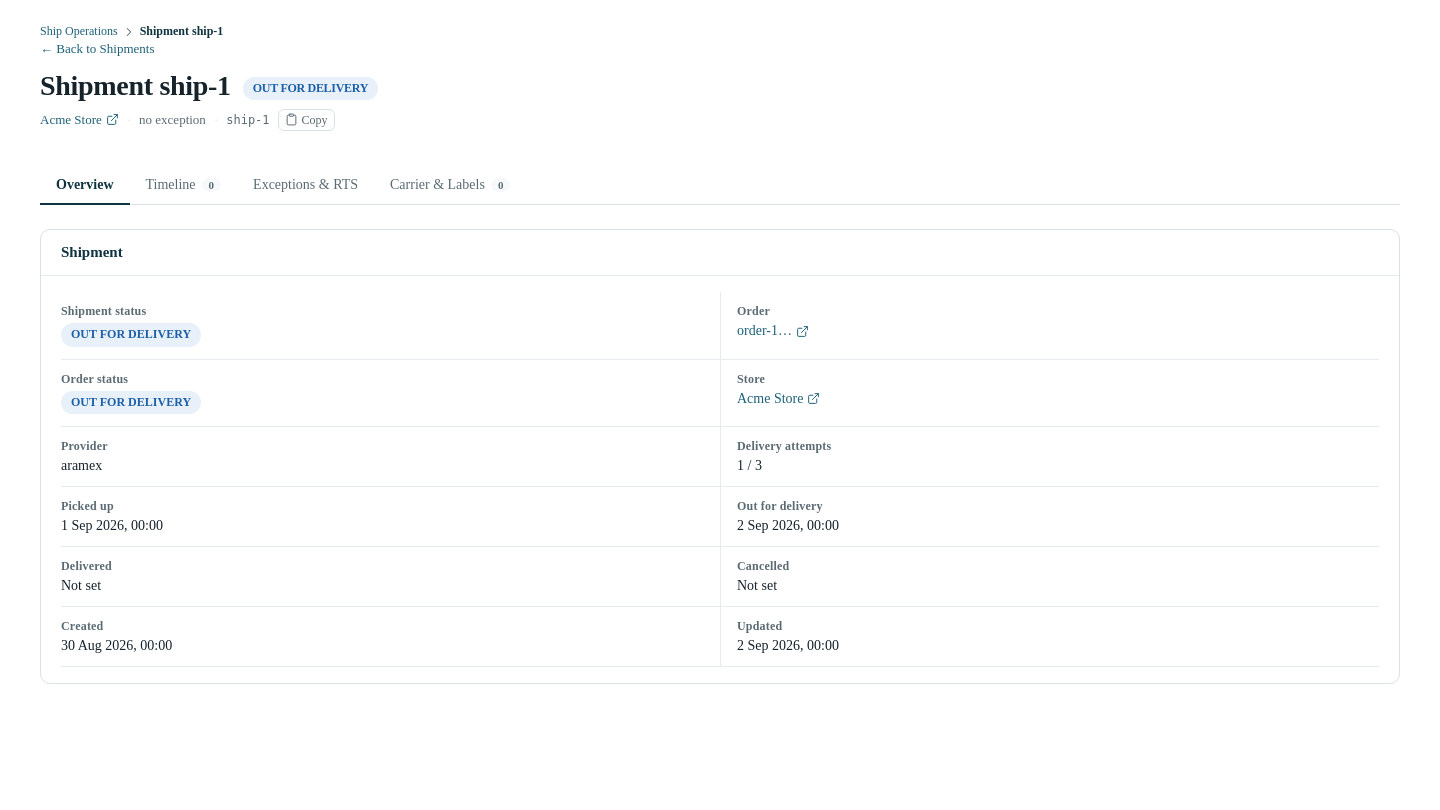
Test case: ShipmentDetailConsole — carrier operations › withholds recovery from operators without the recovery permission
Step 1. Click the tab "Carrier & Labels 0" → (450, 186), box [374,167,526,205]
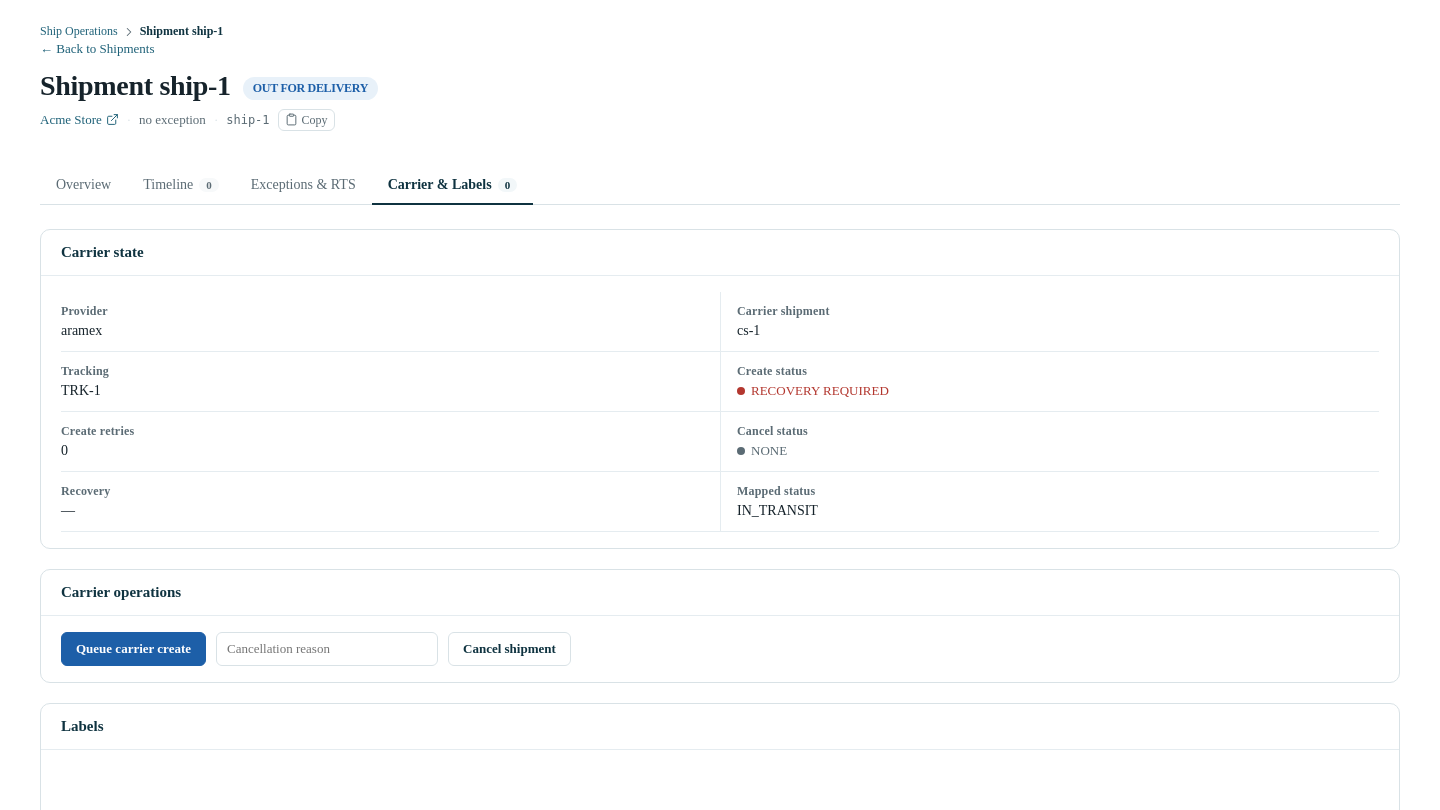
Expected: the button "Cancel shipment" is shown, [448,632,571,666]
